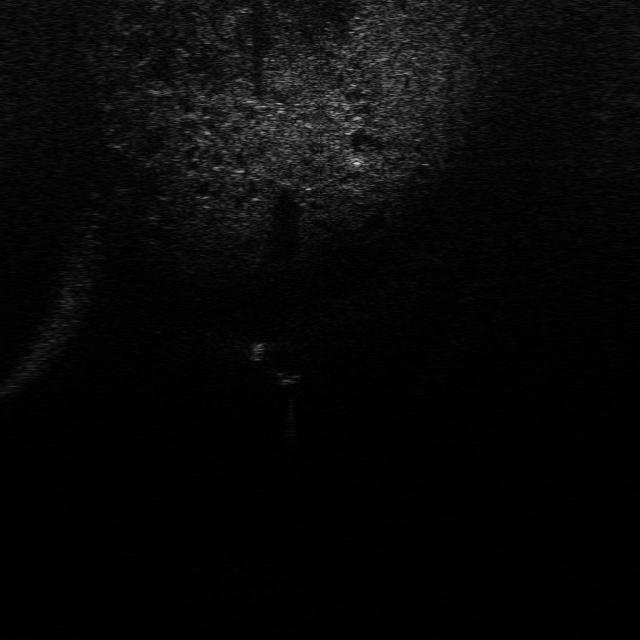cube: (270, 366, 308, 386)
cylinder: (244, 339, 270, 364)
